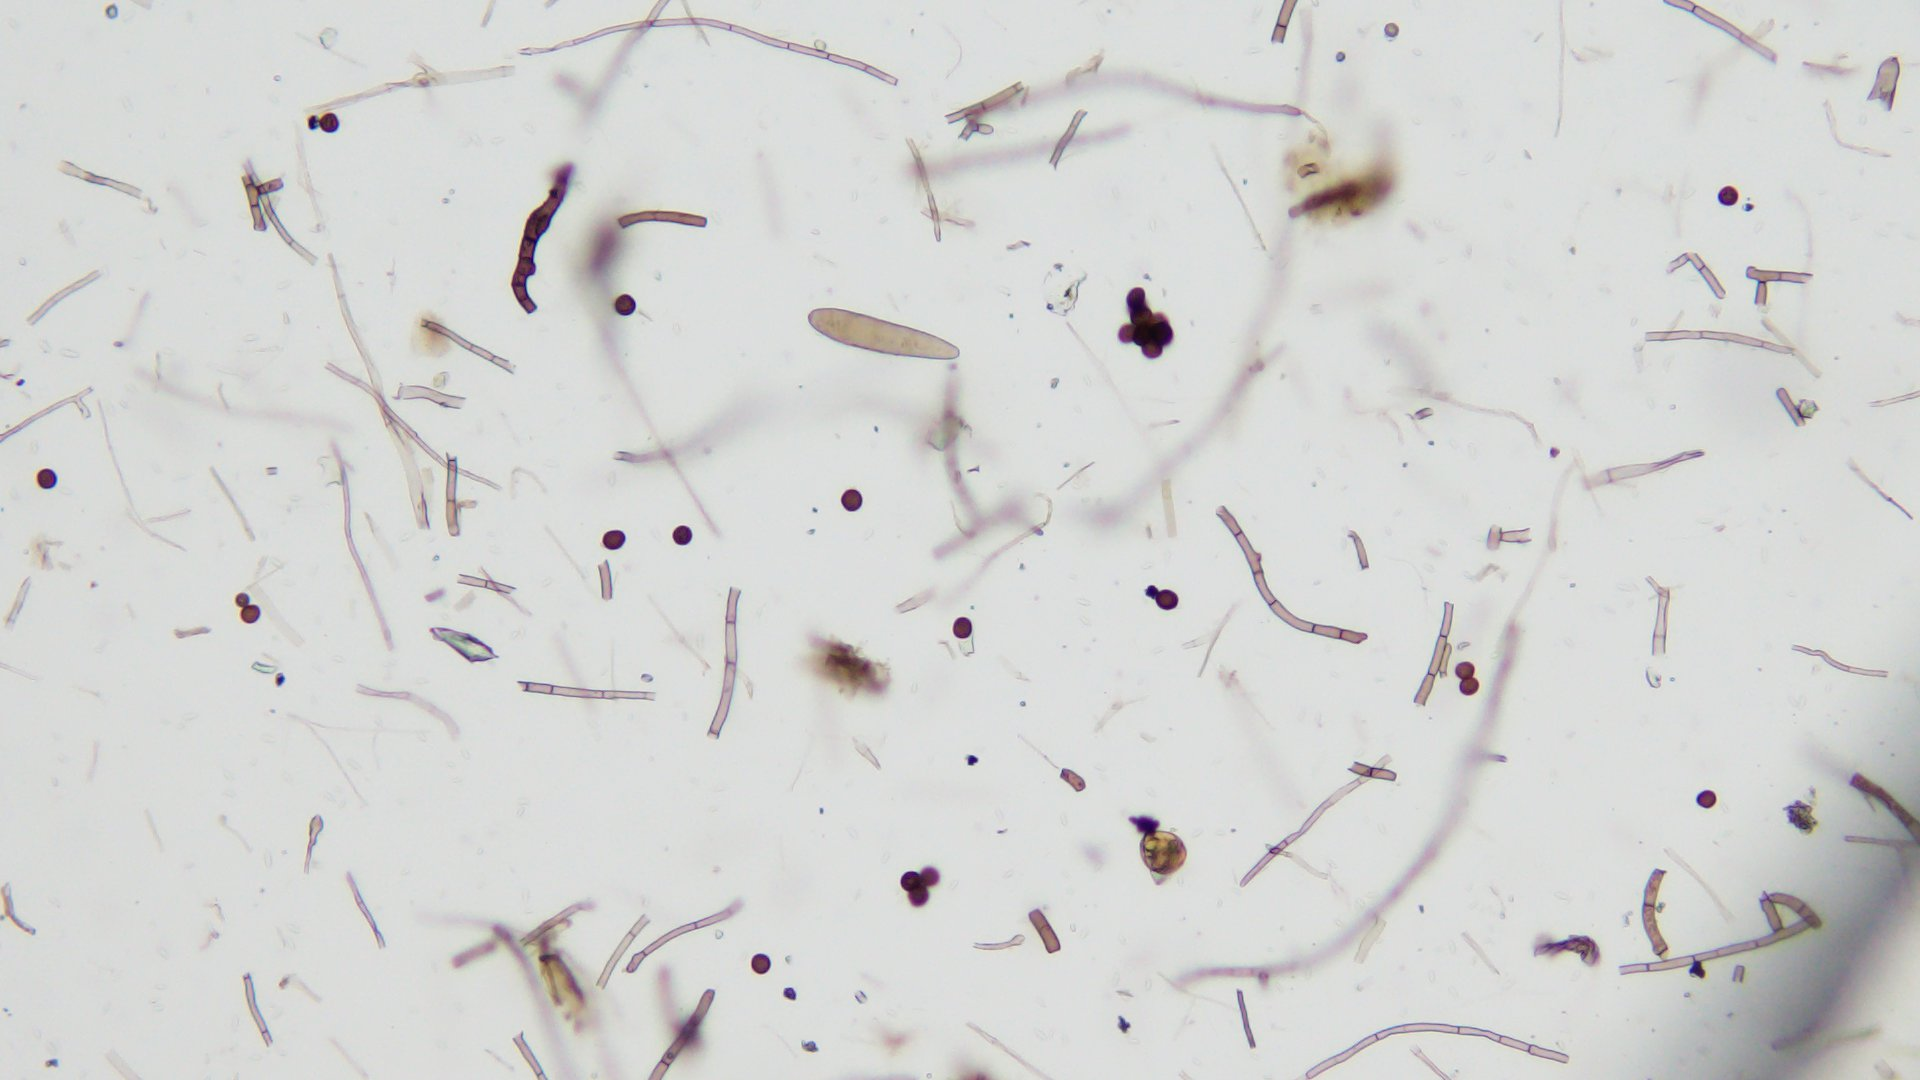dbb_spore: (803, 305, 965, 363)
shs_spore: (601, 527, 626, 550), (952, 616, 975, 641), (841, 488, 864, 512), (36, 469, 61, 491), (671, 526, 694, 549), (1695, 789, 1720, 808), (615, 293, 637, 314), (1717, 185, 1738, 207), (750, 953, 771, 975), (320, 113, 342, 133), (1156, 591, 1178, 611), (899, 872, 920, 891), (1462, 676, 1480, 698), (241, 605, 261, 622), (1456, 661, 1476, 678)
xb_spore: (1139, 831, 1188, 872)
